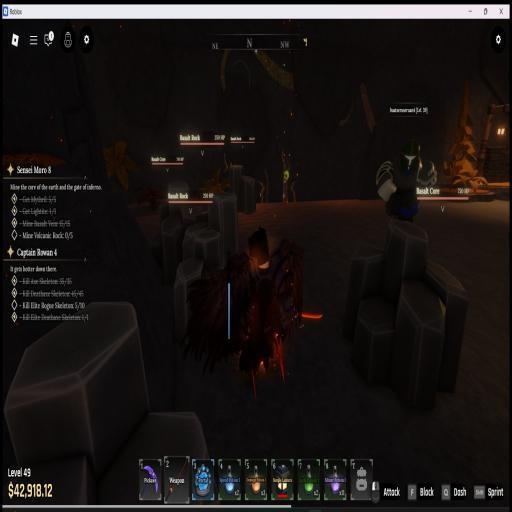player: (184, 228, 304, 381)
rock: (4, 302, 149, 505), (343, 219, 468, 408), (174, 193, 238, 339), (157, 205, 207, 282), (352, 296, 395, 384), (229, 165, 255, 213), (159, 202, 183, 222), (167, 182, 189, 200), (72, 462, 74, 464)
